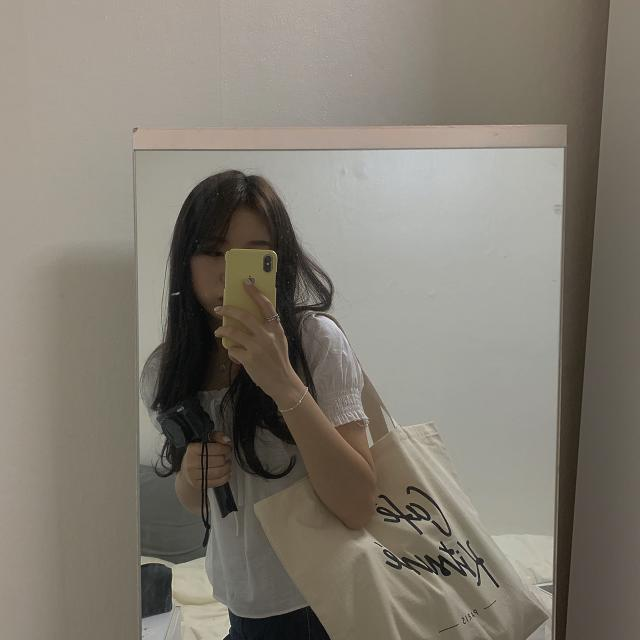ecobag: (252, 317, 556, 640)
